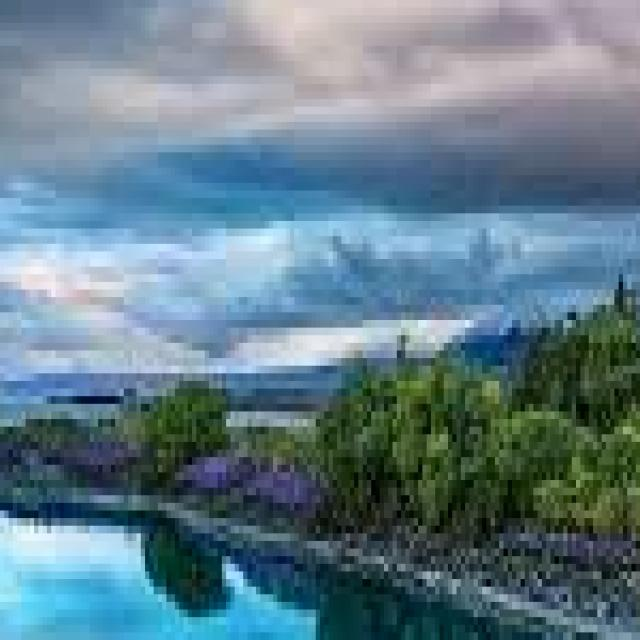-: (4, 548, 311, 640)
